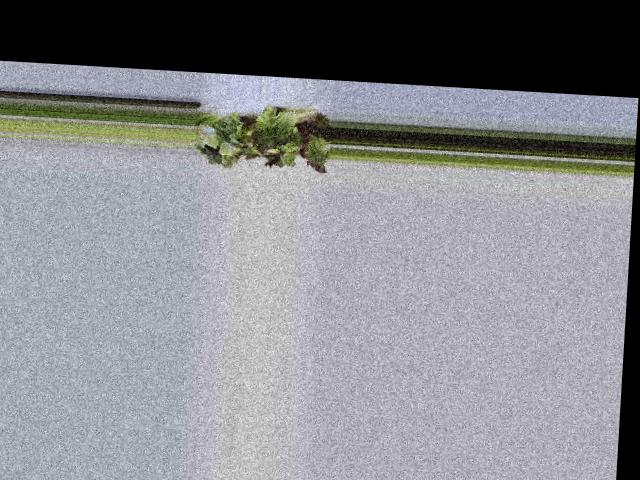lettuce: (201, 110, 327, 168)
